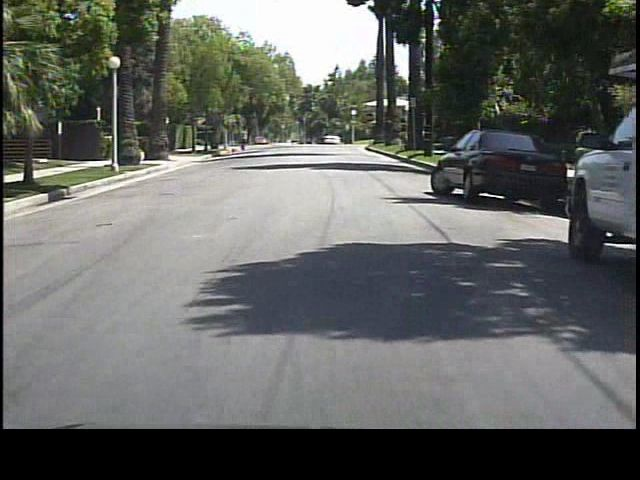person: (239, 127, 253, 156)
